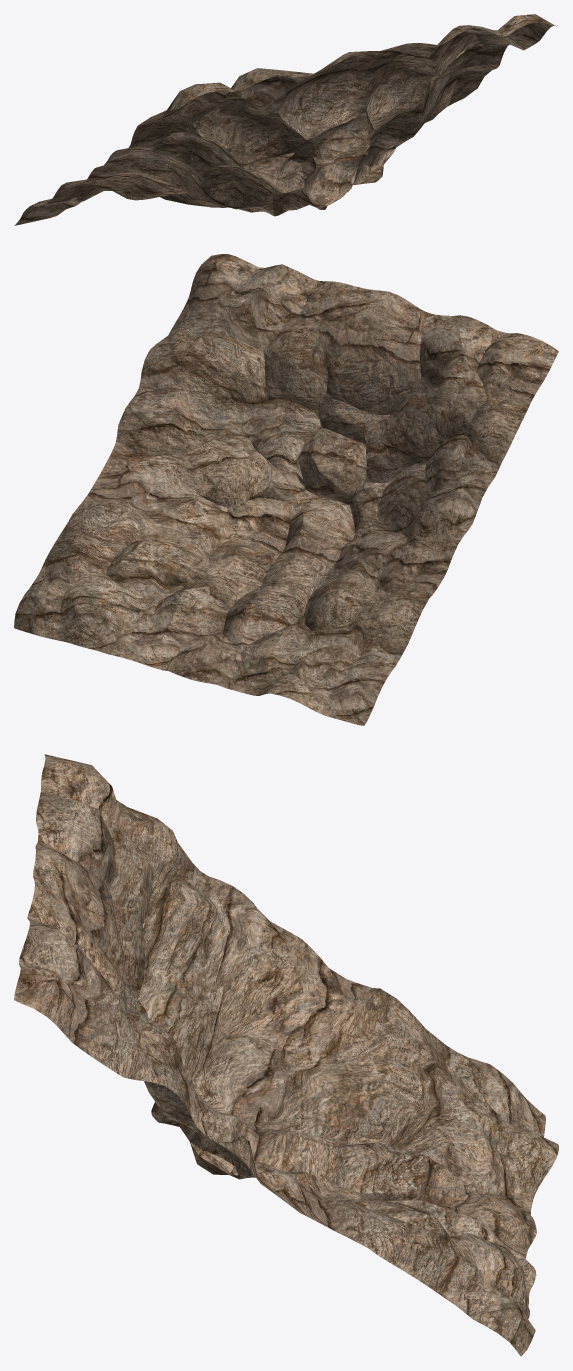
Rendered from CaveCollapsedSheet_LOD1.obj.
3 renders of one model, top to bottom at view 1: azimuth 30°, elevation 25°; view 2: azimuth 150°, elevation 25°; view 3: azimuth 270°, elevation 25°, orthographic. The views are drawn at different scales.
Parts seen in each view (by area): view 1: CaveCollapsedSheet_LOD1; view 2: CaveCollapsedSheet_LOD1; view 3: CaveCollapsedSheet_LOD1.
Boxes of the visible parts, x1=… form: CaveCollapsedSheet_LOD1: x1=14, y1=14, x2=556, y2=225; CaveCollapsedSheet_LOD1: x1=14, y1=254, x2=558, y2=725; CaveCollapsedSheet_LOD1: x1=14, y1=754, x2=558, y2=1356.
Size of the model in its own units: 5.24 by 3.49 by 4.62.
